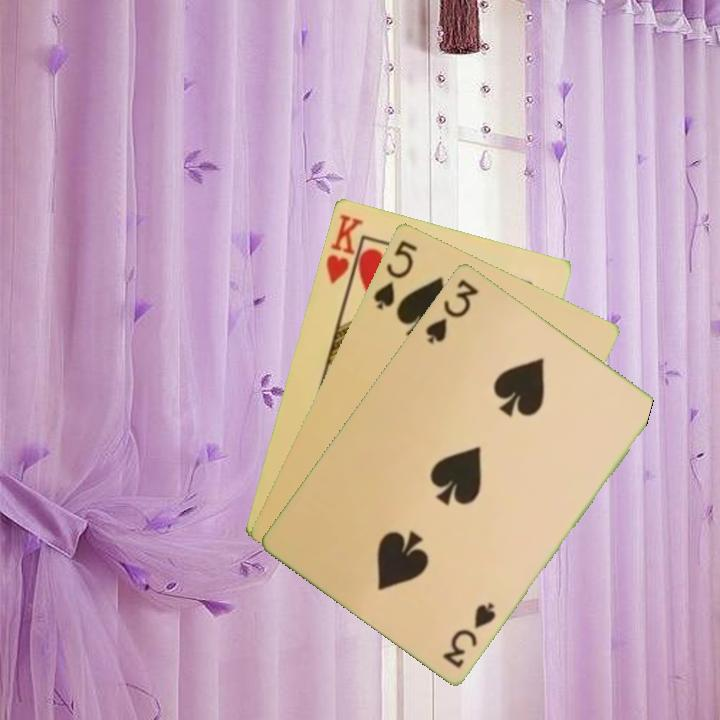3s: (439, 597, 499, 671), (421, 274, 481, 346)
5s: (370, 236, 420, 313)
Kh: (322, 210, 366, 295)
